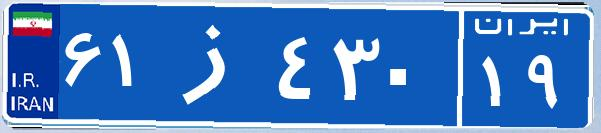0: (385, 28, 445, 110)
1: (475, 38, 525, 113), (110, 28, 158, 105)
3: (330, 28, 385, 110)
4: (273, 28, 330, 110)
6: (57, 26, 110, 107)
9: (525, 38, 570, 115)
ز: (158, 15, 273, 115)
